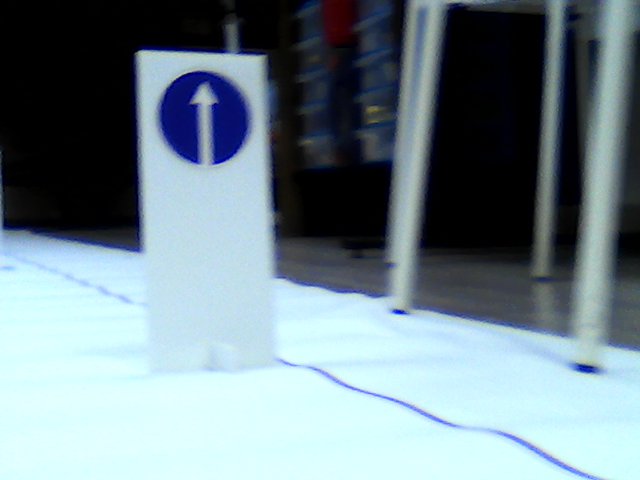forw: (156, 66, 255, 174)
